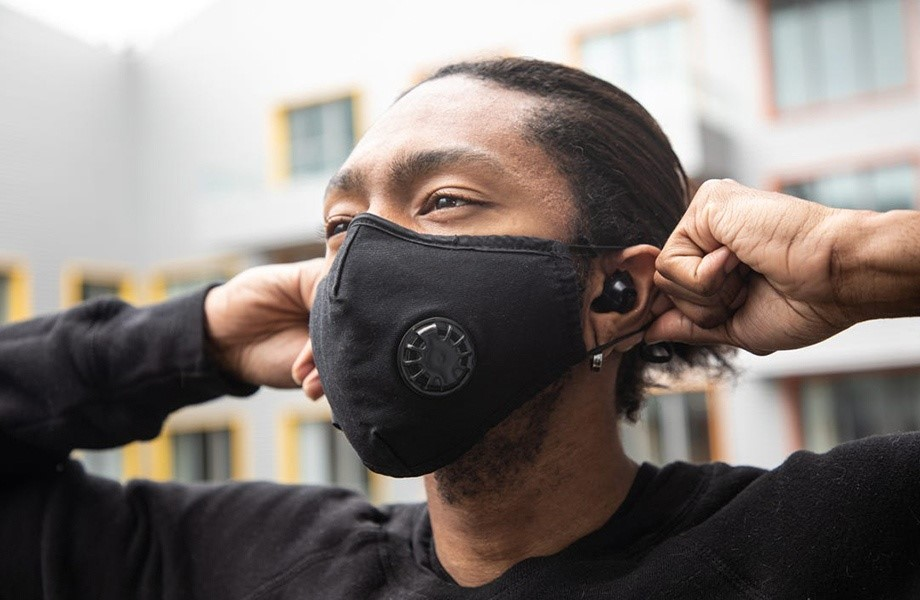face_with_mask: (300, 44, 714, 486)
